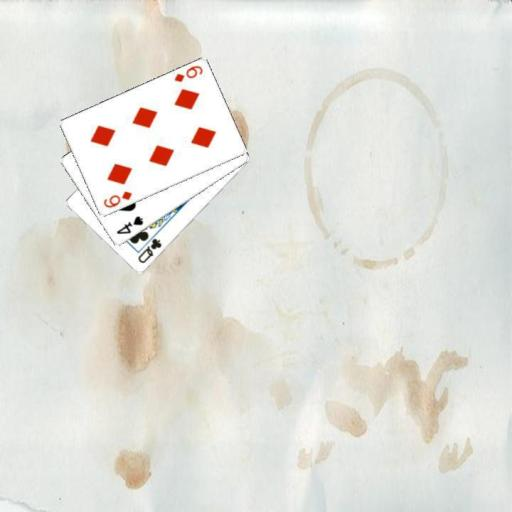card-corner: (134, 236, 163, 266), (100, 188, 133, 210), (171, 62, 204, 84), (113, 213, 144, 236)
